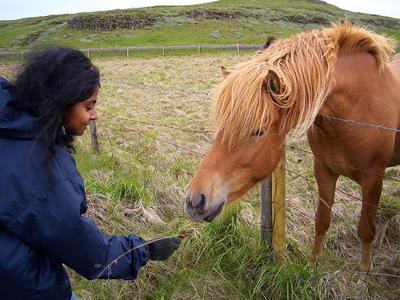person: (2, 44, 188, 300)
